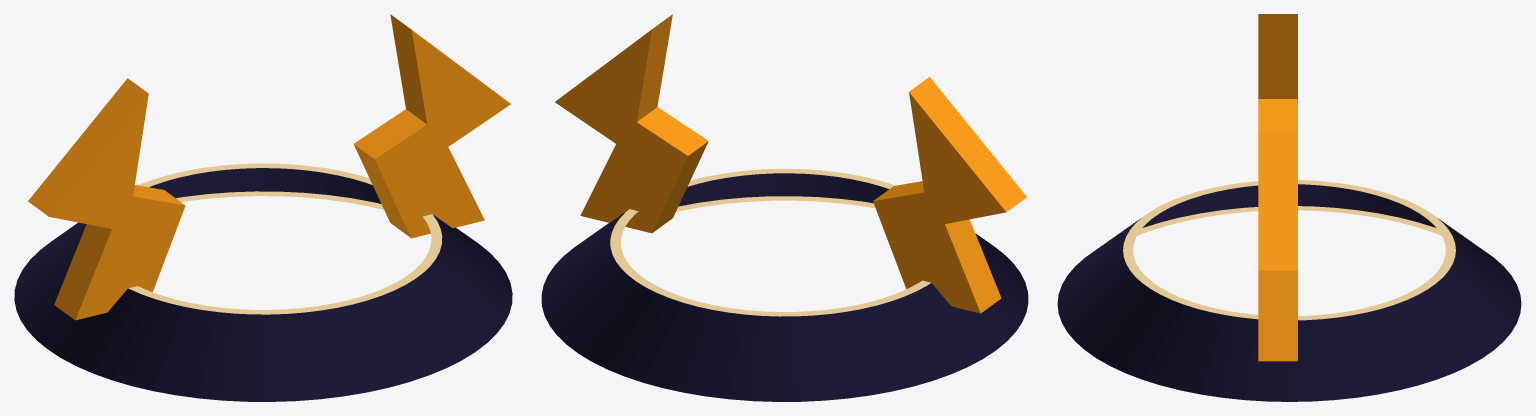
The model's file is copy_band_thunder.obj.
The picture shows the model from 3 angles, left to right: view 1: azimuth 30°, elevation 25°; view 2: azimuth 150°, elevation 25°; view 3: azimuth 270°, elevation 25°; orthographic projection. The views are drawn at different scales.
Parts seen in each view (by area): view 1: copy_band_thunder; view 2: copy_band_thunder; view 3: copy_band_thunder.
Part boxes in pixels (left/top/right/bottom): copy_band_thunder: left=14, top=14, right=512, bottom=401; copy_band_thunder: left=541, top=14, right=1028, bottom=401; copy_band_thunder: left=1057, top=14, right=1521, bottom=401.
Bounding box in the file's own units: 0.88 × 0.45 × 0.8218.
